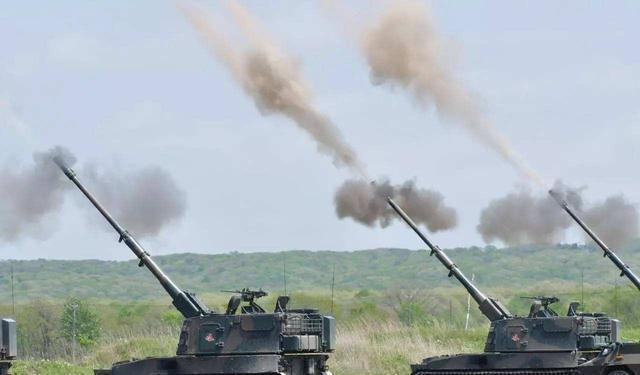MIL_SPG: (52, 154, 335, 374), (388, 199, 640, 375)
